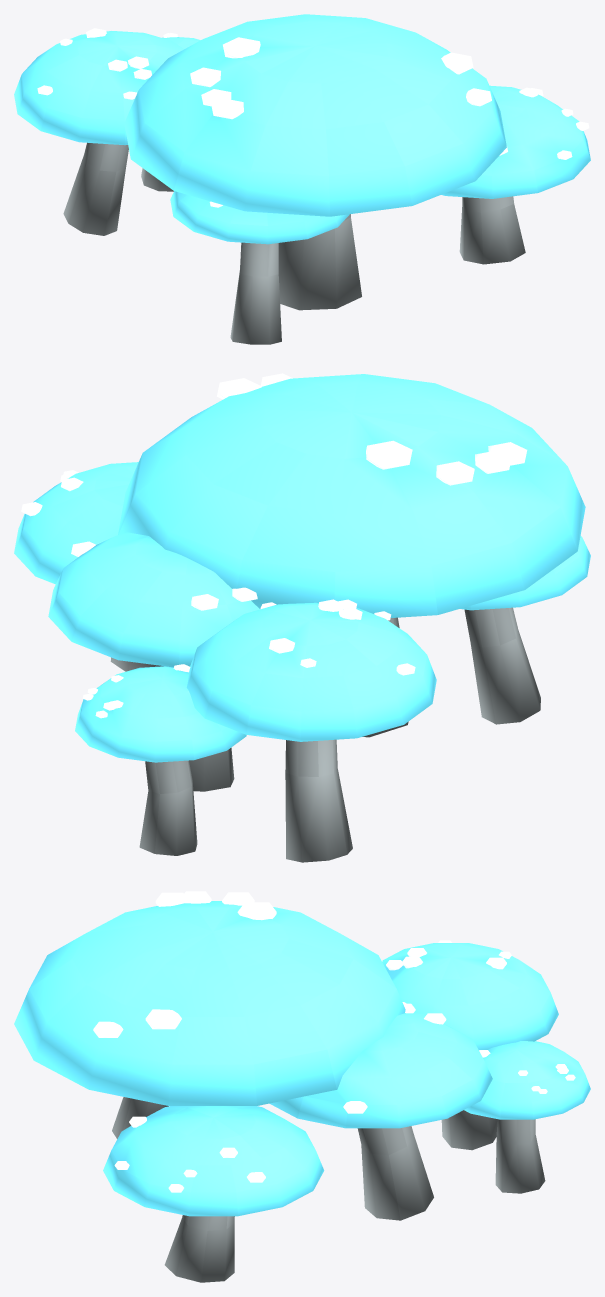
The model's file is obj_deco_hongos_3.glb.
3 views of the same model, one above another, from view 1: azimuth 30°, elevation 25°; view 2: azimuth 150°, elevation 25°; view 3: azimuth 270°, elevation 25° (orthographic). The views are drawn at different scales.
Parts seen in each view (by area): view 1: propforge-libre-deco_hongos; view 2: propforge-libre-deco_hongos; view 3: propforge-libre-deco_hongos.
Part boxes in pixels (x1=…): propforge-libre-deco_hongos: x1=14, y1=14, x2=590, y2=344; propforge-libre-deco_hongos: x1=14, y1=373, x2=590, y2=862; propforge-libre-deco_hongos: x1=14, y1=891, x2=590, y2=1282.
Size of the model in its own units: 0.4939 by 0.2757 by 0.5574.
